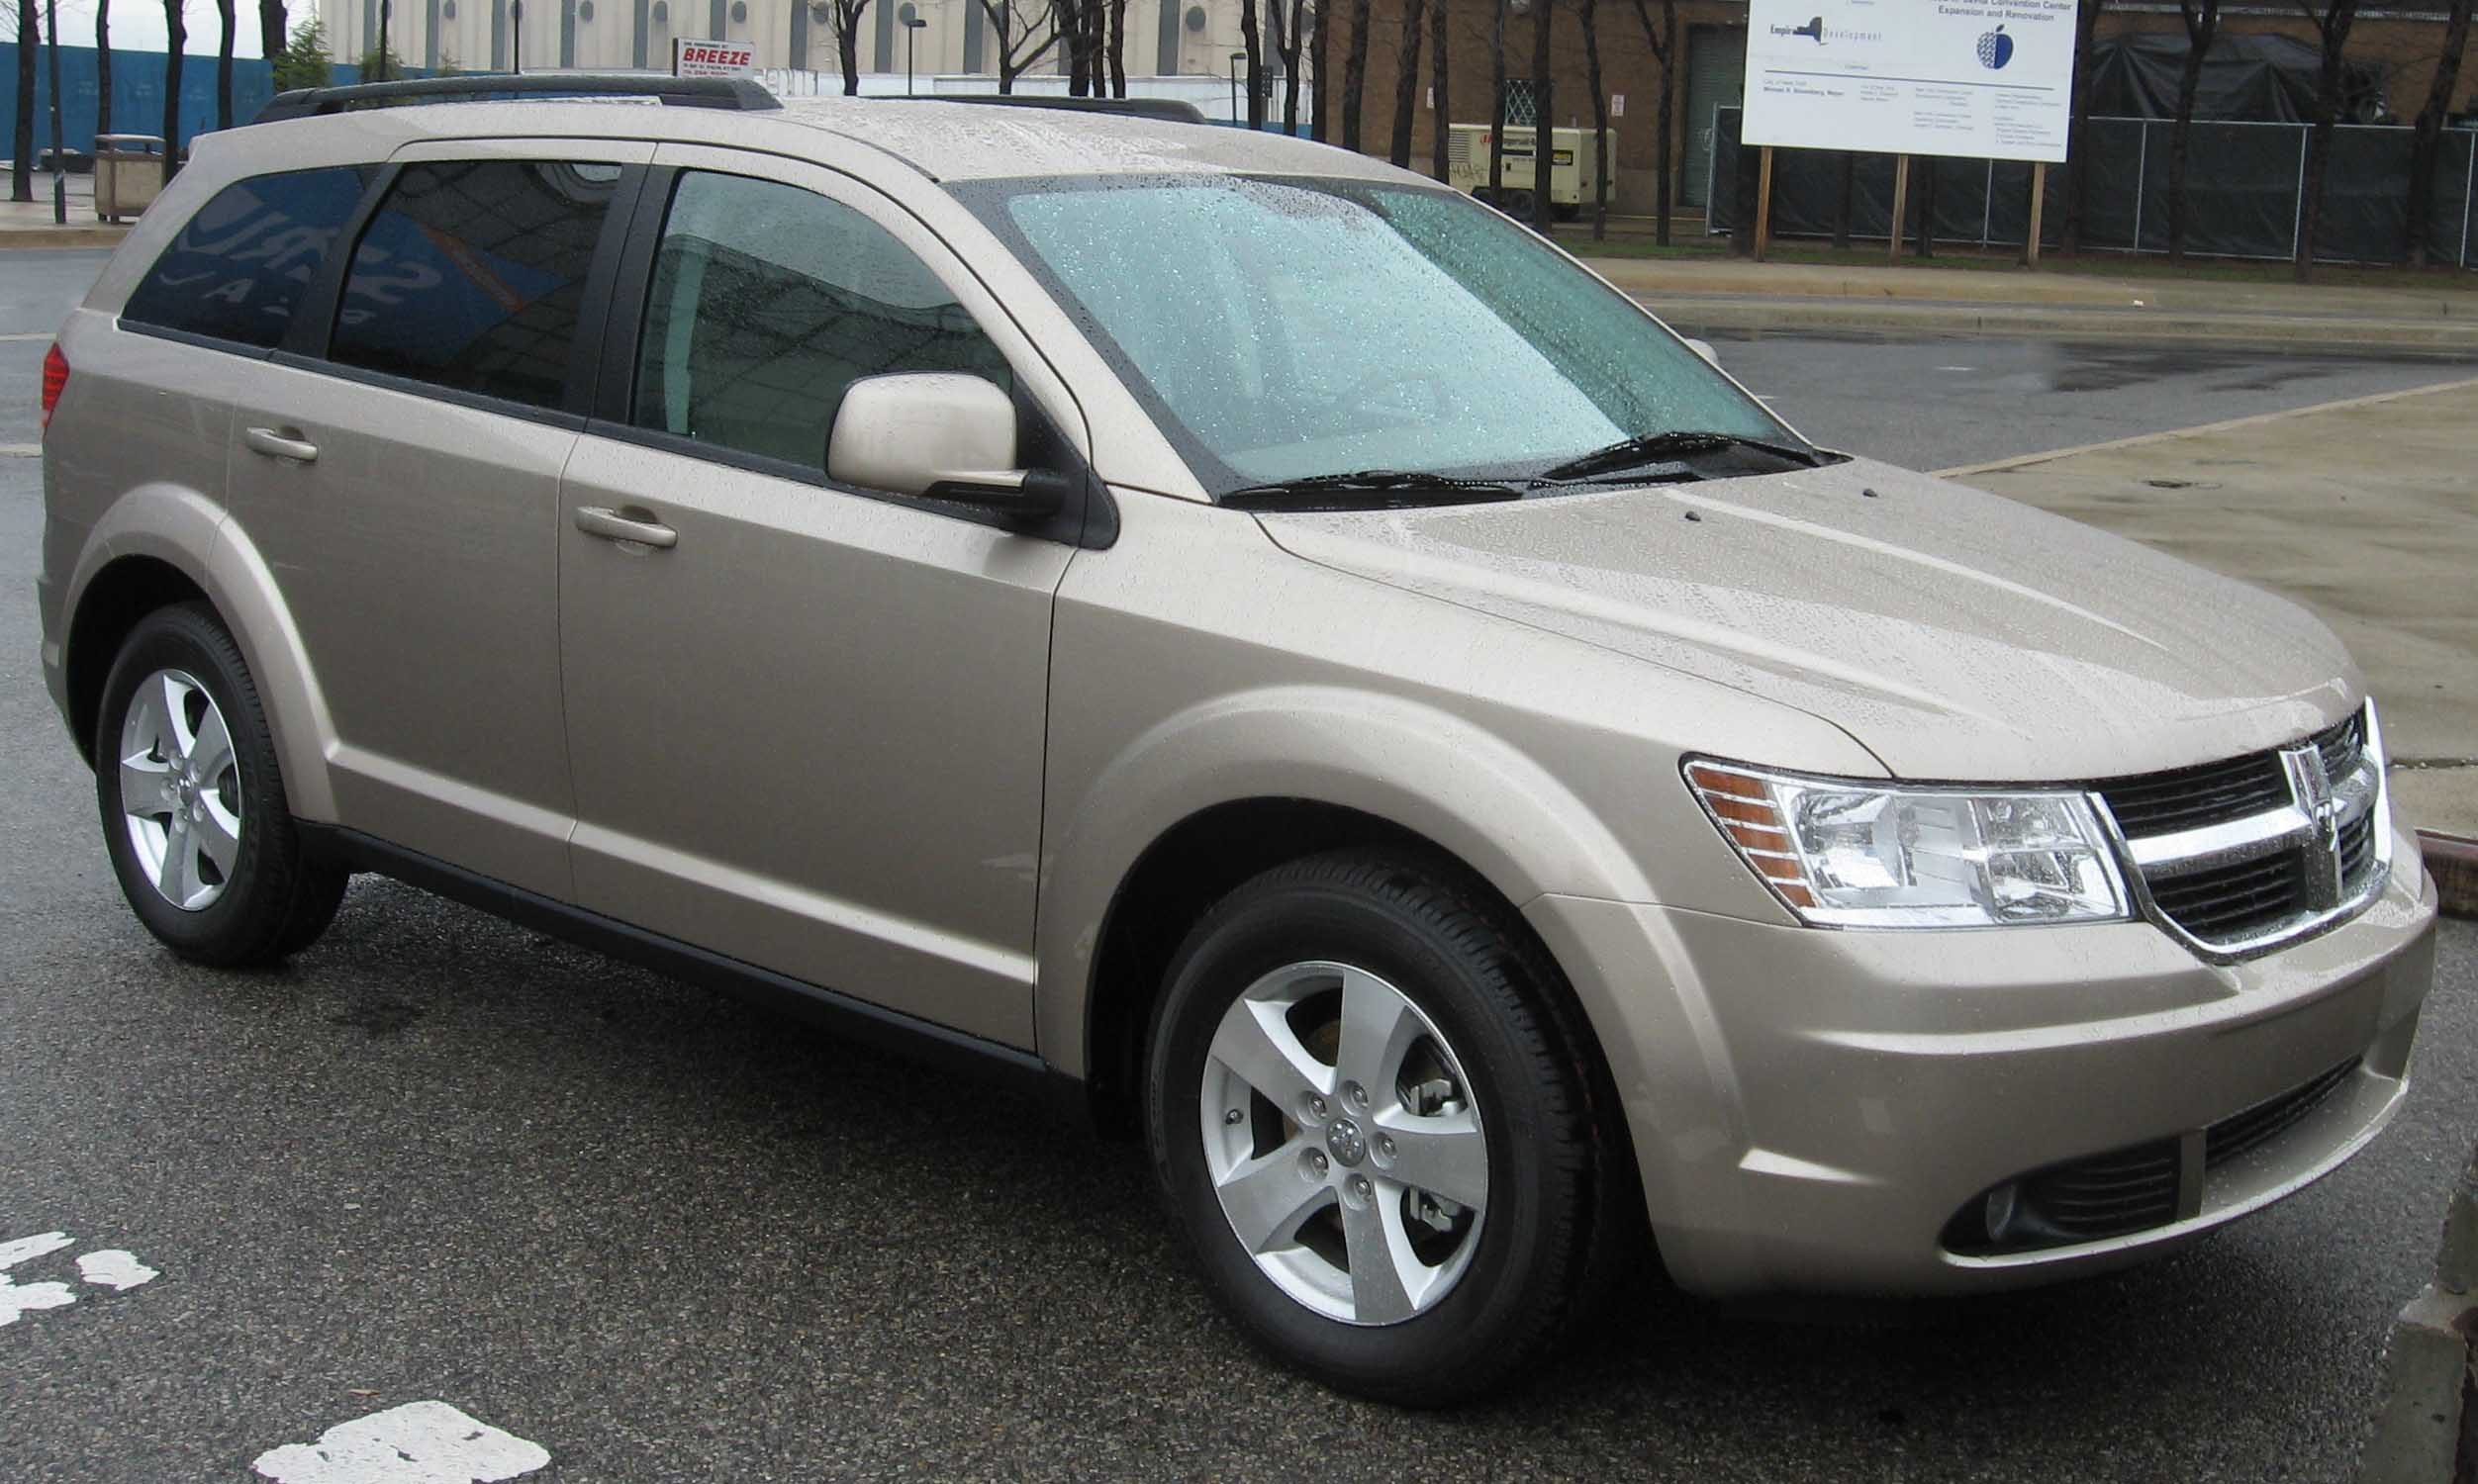car: (41, 79, 2439, 1413)
